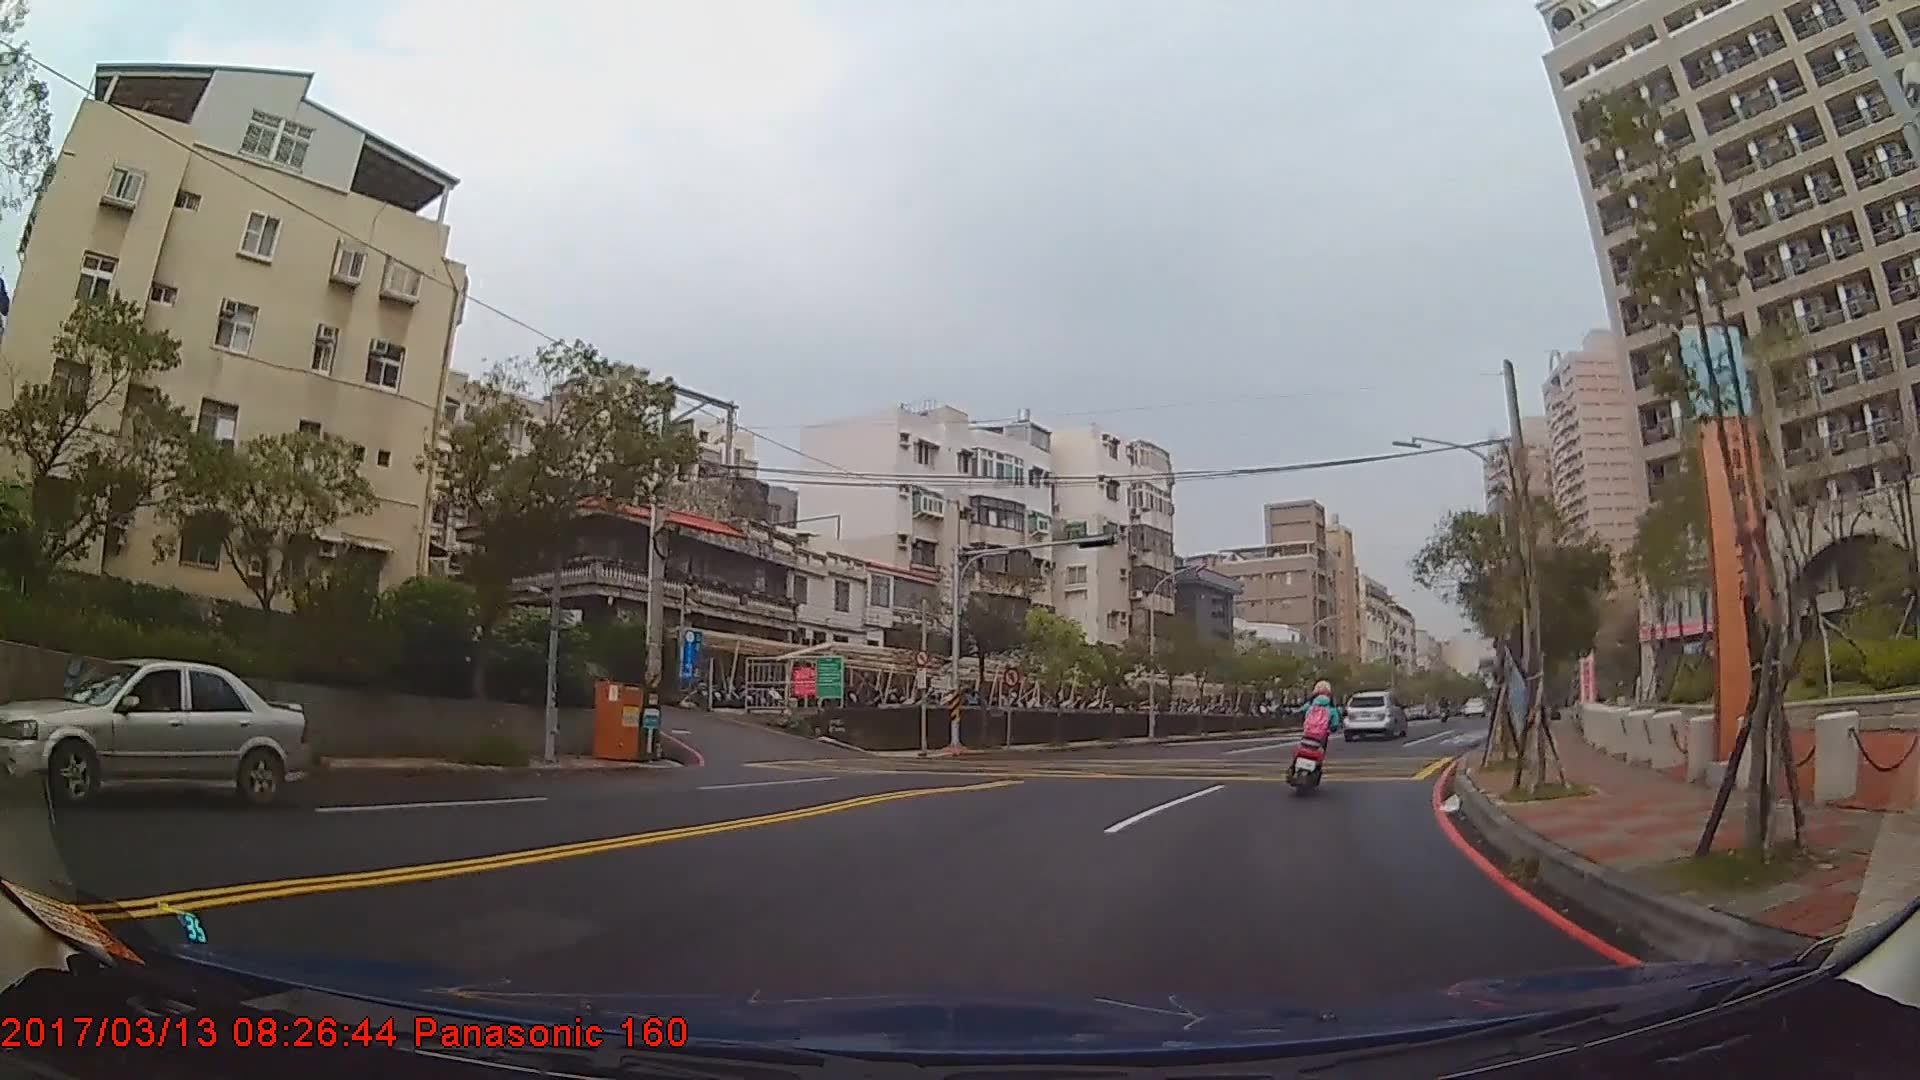rider: (1287, 677, 1343, 791)
vehicle: (0, 658, 313, 812), (1341, 689, 1407, 737)
